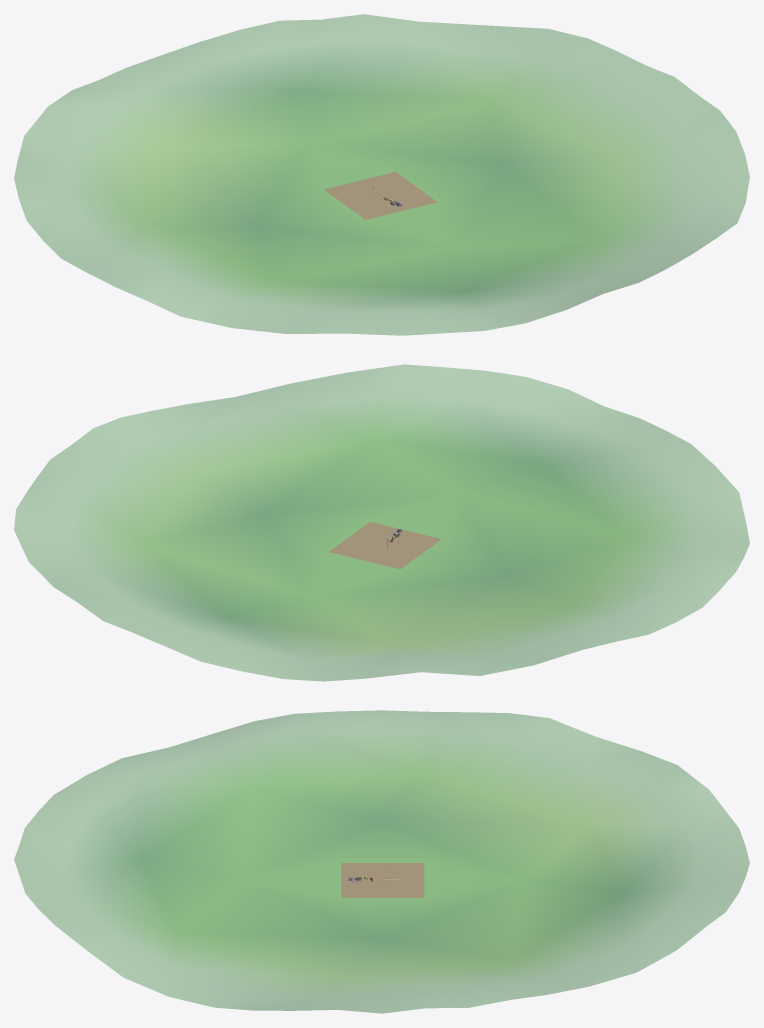
The model's file is harvest_models_fbx.glb.
3 renders of one model, top to bottom at view 1: azimuth 30°, elevation 25°; view 2: azimuth 150°, elevation 25°; view 3: azimuth 270°, elevation 25°, orthographic.
Visible parts, largest first — view 1: back_low, dirt; view 2: back_low, dirt; view 3: back_low, dirt.
Part boxes in pixels (x1,y1,x2,y2): back_low: [14, 14, 749, 335]; dirt: [324, 172, 437, 219]; back_low: [14, 364, 749, 681]; dirt: [329, 521, 441, 569]; back_low: [14, 710, 749, 1013]; dirt: [341, 863, 424, 897].
Bounding box in the file's own units: 1324 × 53.5 × 1329.
